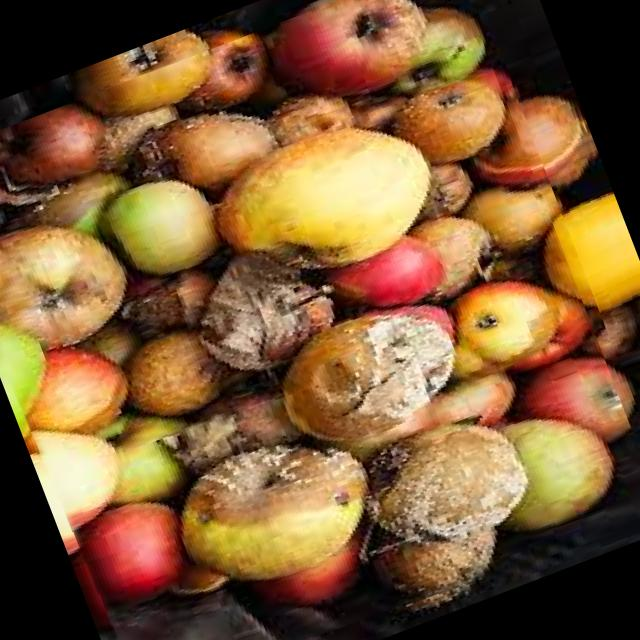Organic: (0, 0, 640, 640), (505, 49, 640, 357), (61, 21, 215, 102)
